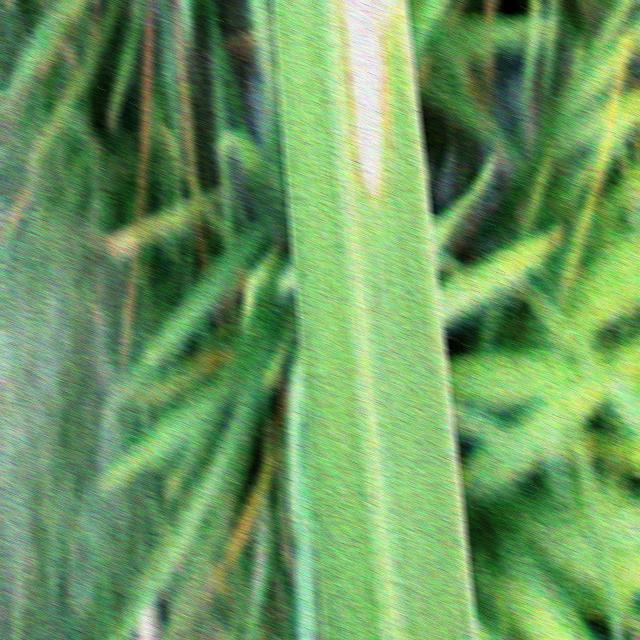BLB: (341, 0, 408, 201)
